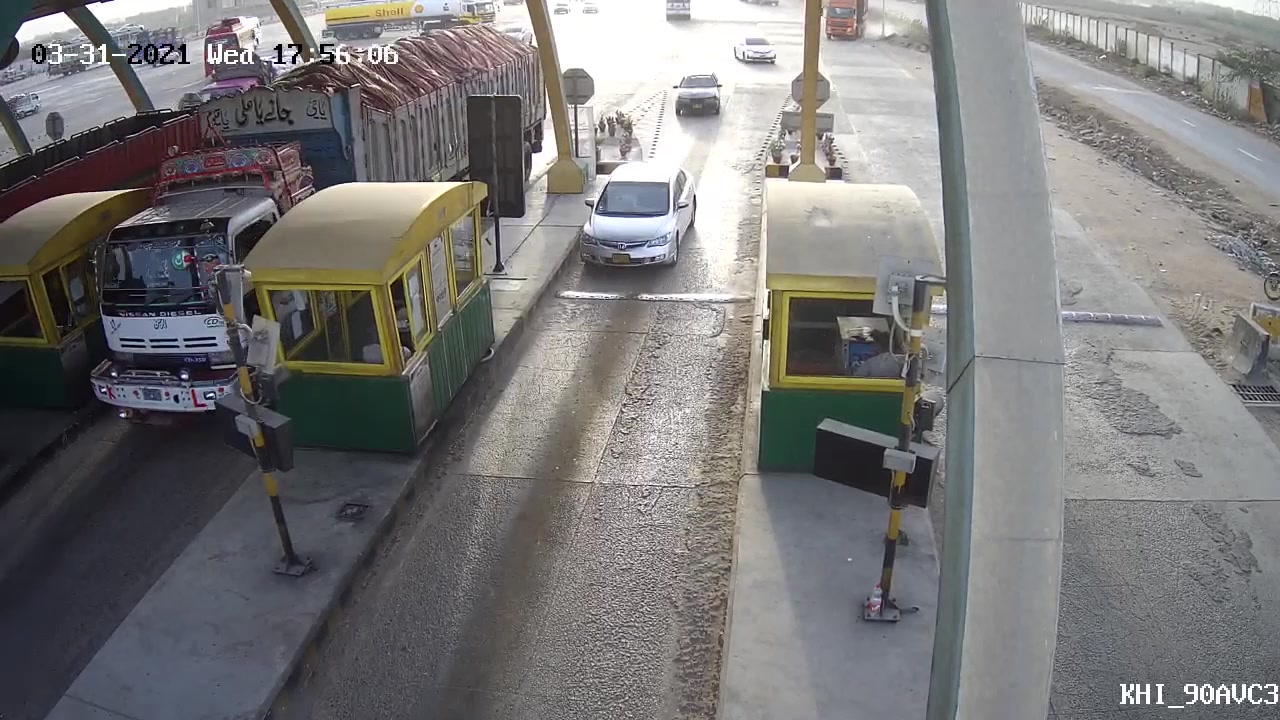F1: (570, 158, 701, 270)
